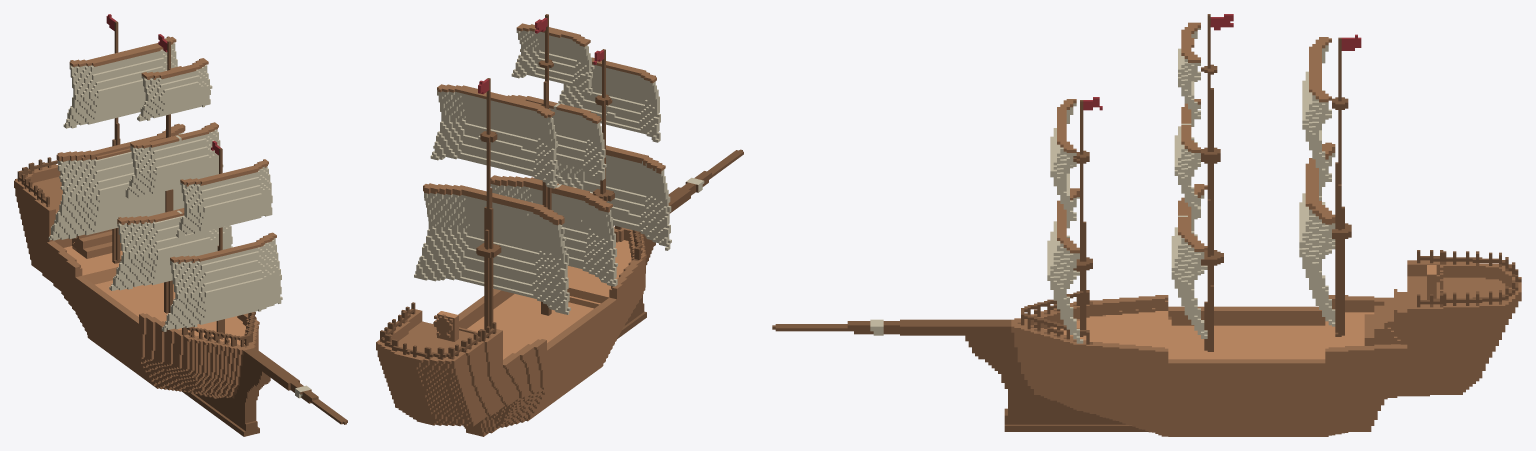
The model's file is BigShip_Voxelized.glb.
3 renders of one model, left to right at view 1: azimuth 30°, elevation 25°; view 2: azimuth 150°, elevation 25°; view 3: azimuth 270°, elevation 25°, orthographic. The views are drawn at different scales.
Visible parts, largest first — view 1: BigShip_Voxelized; view 2: BigShip_Voxelized; view 3: BigShip_Voxelized.
Part boxes in pixels (x1,y1,x2,y2): BigShip_Voxelized: (14,14,347,436); BigShip_Voxelized: (376,14,743,436); BigShip_Voxelized: (772,14,1521,436).
Bounding box in the file's own units: 1.69 × 3.85 × 6.34.
